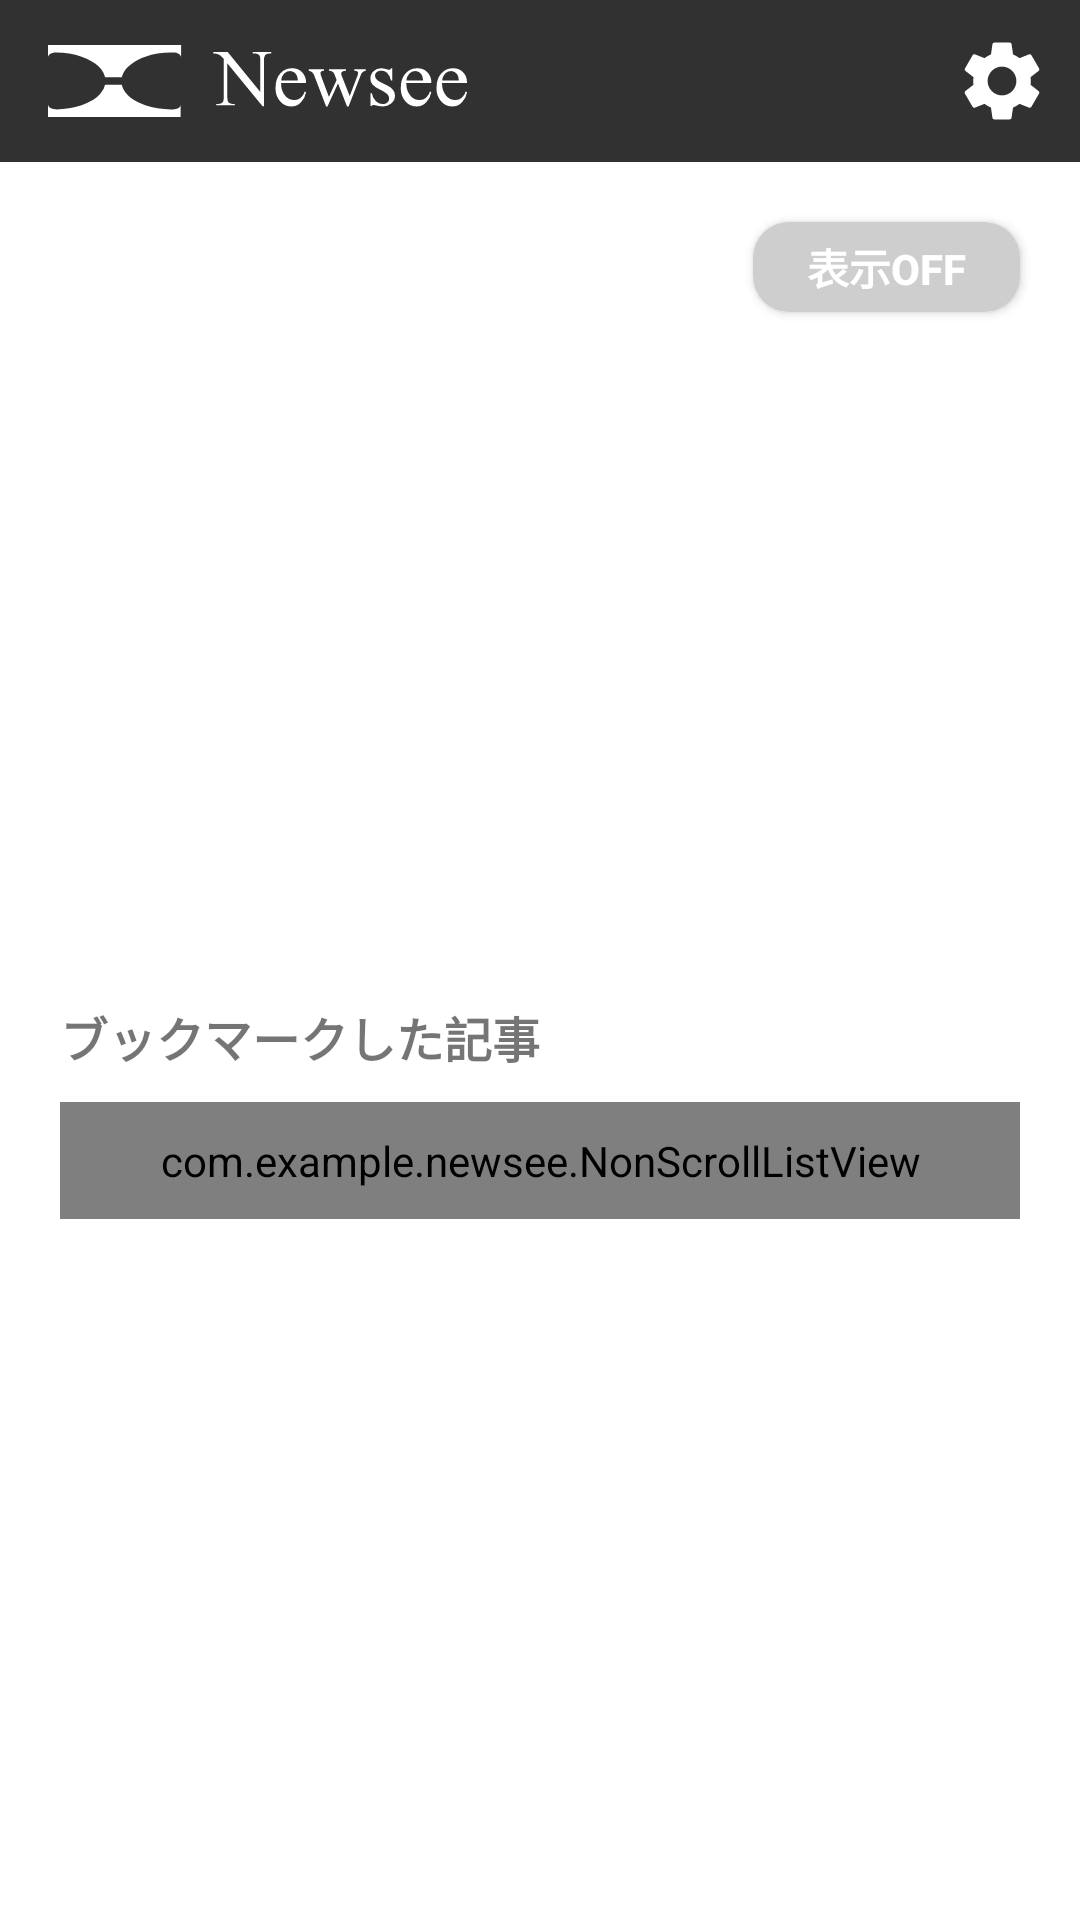

Locate icon controls on the screen. Image size 1080x1920, boxes as {"x1": x1, "y1": y1, "x2": x2, "y2": y2}.
settings: {"x1": 964, "y1": 42, "x2": 1040, "y2": 120}
